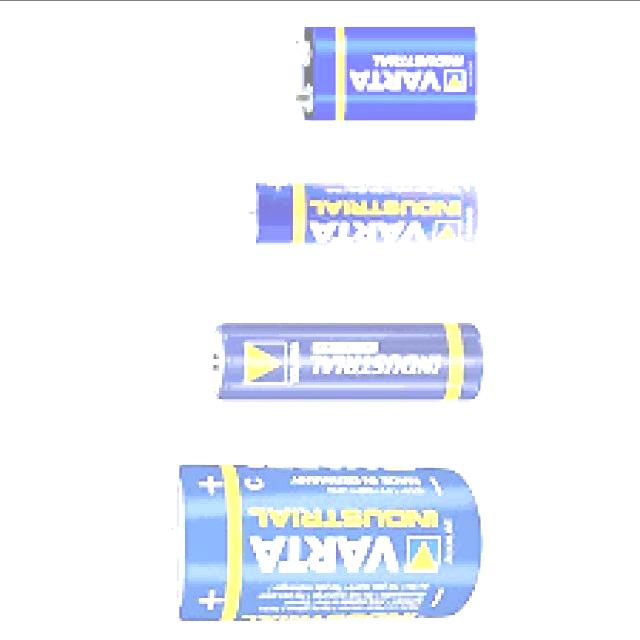9V: (299, 22, 478, 120)
AA: (208, 322, 478, 398)
